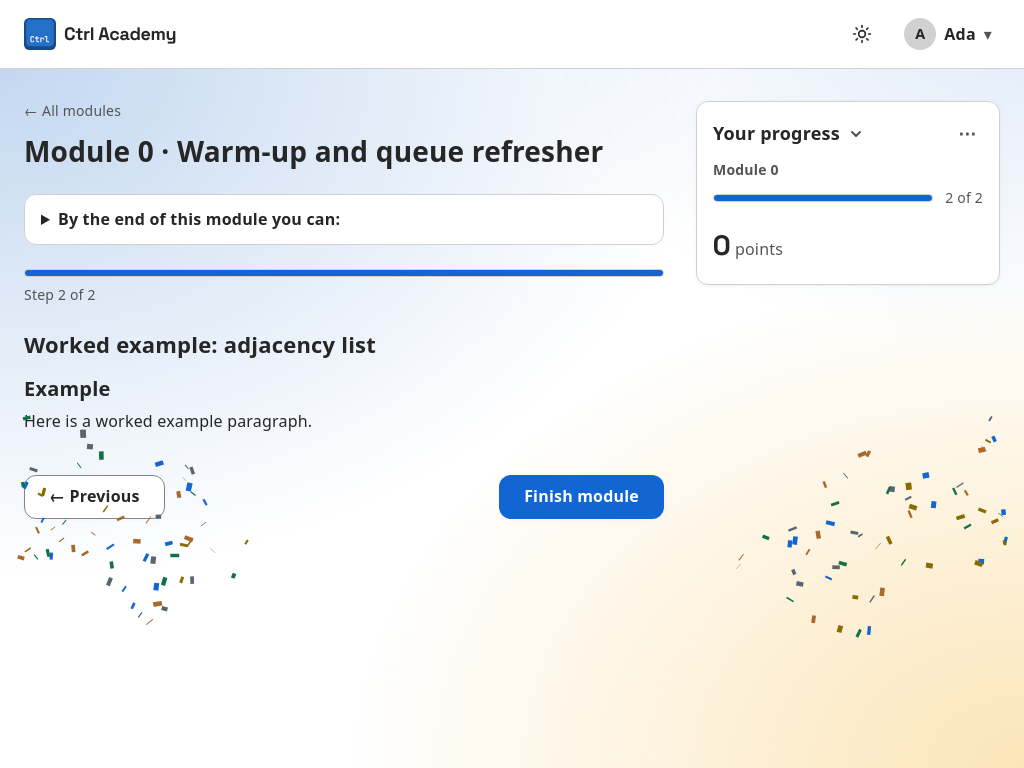
Scenario: ModulePage — navigation and position saving › announces a badge the finish earned at once, not after the next answer
Step 1. Click the button "Finish module" → click(582, 496), box [499,474,664,518]
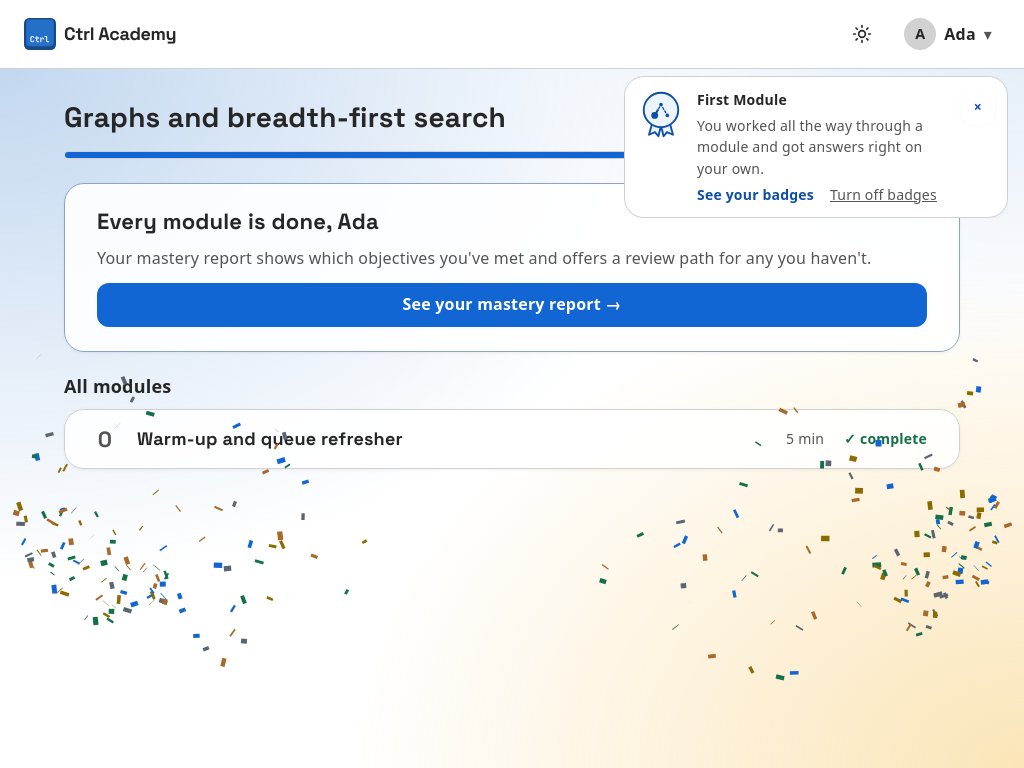
Check: the text "First Module" is shown, box [697,90,787,109]
